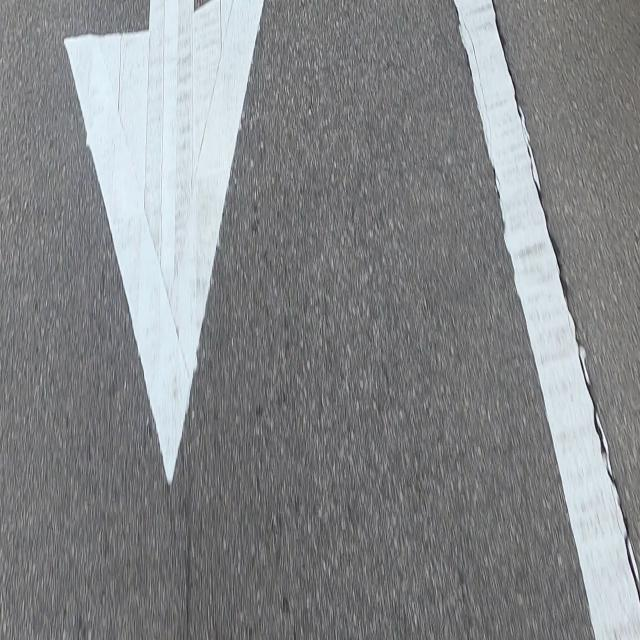Retak-Memanjang: (488, 3, 639, 594)
